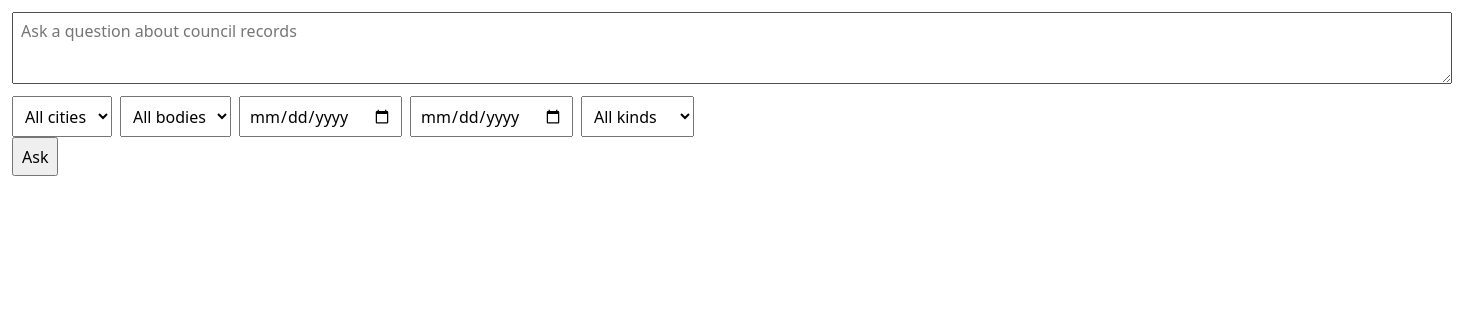
Test: renders model, cost, and latency, and marks cached answers
Type "How did they vote?" into the text box with test id "ask-input".
click(732, 48); type("How did they vote?")  # box [12,12,1452,84]
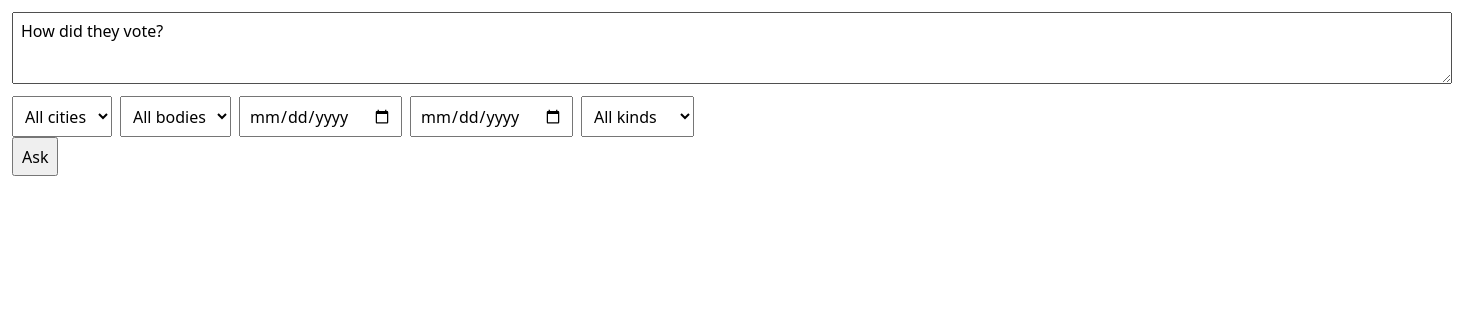
Click the button with test id "ask-submit".
click(35, 157)  # box [12,137,58,176]
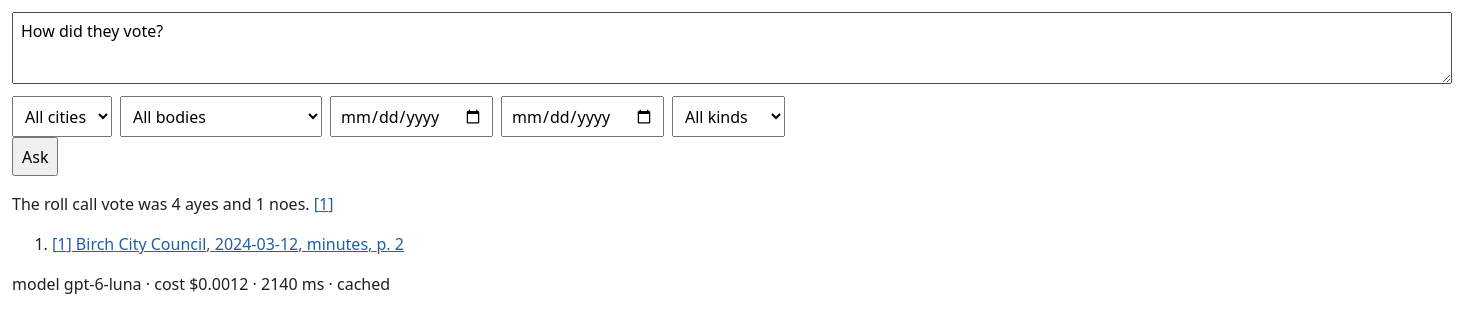
Expected: the text with test id "answer-meta" reads "model gpt-6-luna · cost $0.0012 · 2140 ms · cached", [12,273,390,295]
